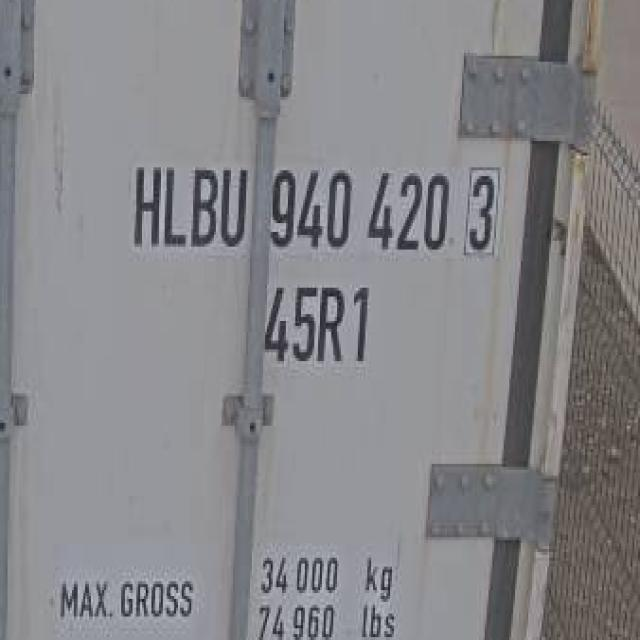dv: (458, 159, 506, 261)
owner: (124, 157, 255, 259)
serial: (261, 164, 450, 263)
size: (250, 272, 376, 364)
